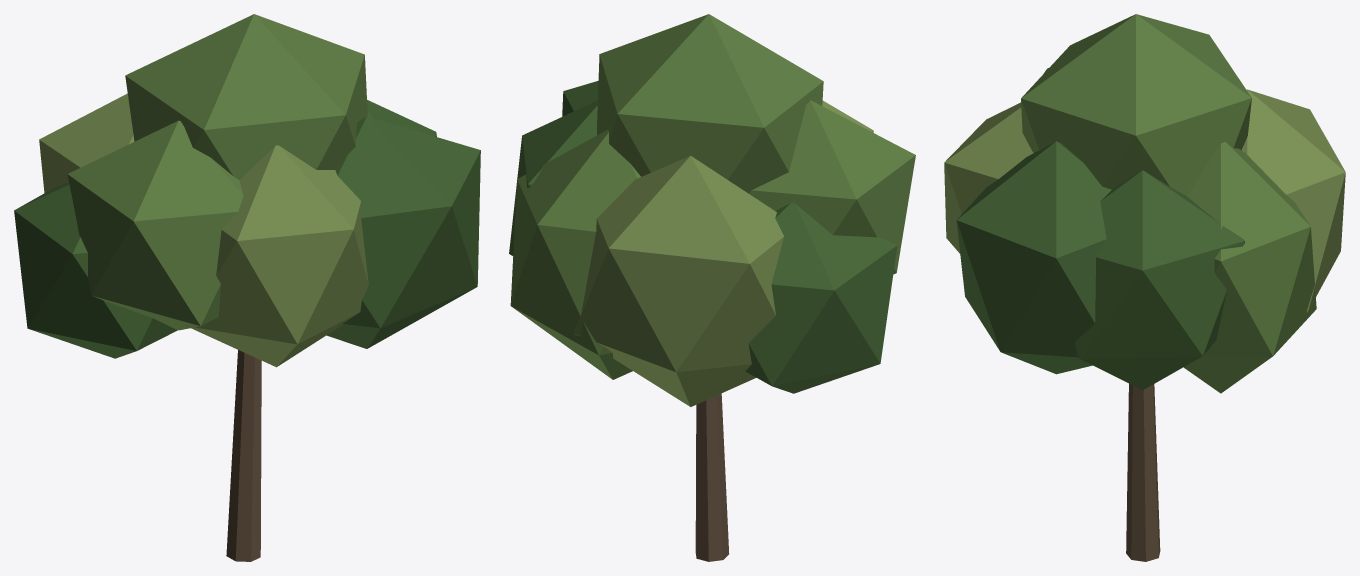
Rendered from broadleaf-lod1.glb.
3 renders of one model, left to right at view 1: azimuth 30°, elevation 25°; view 2: azimuth 150°, elevation 25°; view 3: azimuth 270°, elevation 25°, orthographic.
Visible parts, largest first — view 1: Broadleaf_LOD1; view 2: Broadleaf_LOD1; view 3: Broadleaf_LOD1.
Boxes of the visible parts, x1,y1,x2,y2 form: Broadleaf_LOD1: [14, 14, 480, 561]; Broadleaf_LOD1: [509, 14, 915, 561]; Broadleaf_LOD1: [944, 14, 1345, 561].
Size of the model in its own units: 5.83 by 7.81 by 5.23.
